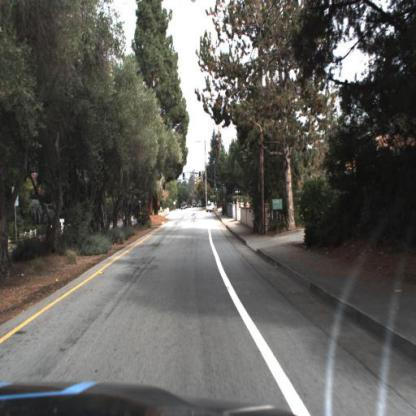car: (205, 200, 219, 216), (206, 200, 220, 216)
trafficLight-Green: (200, 168, 204, 182)
